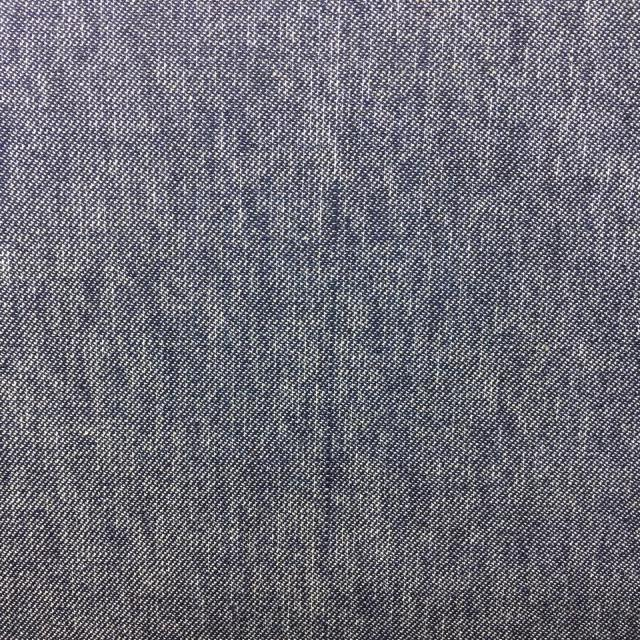Line: (317, 178, 340, 563)
